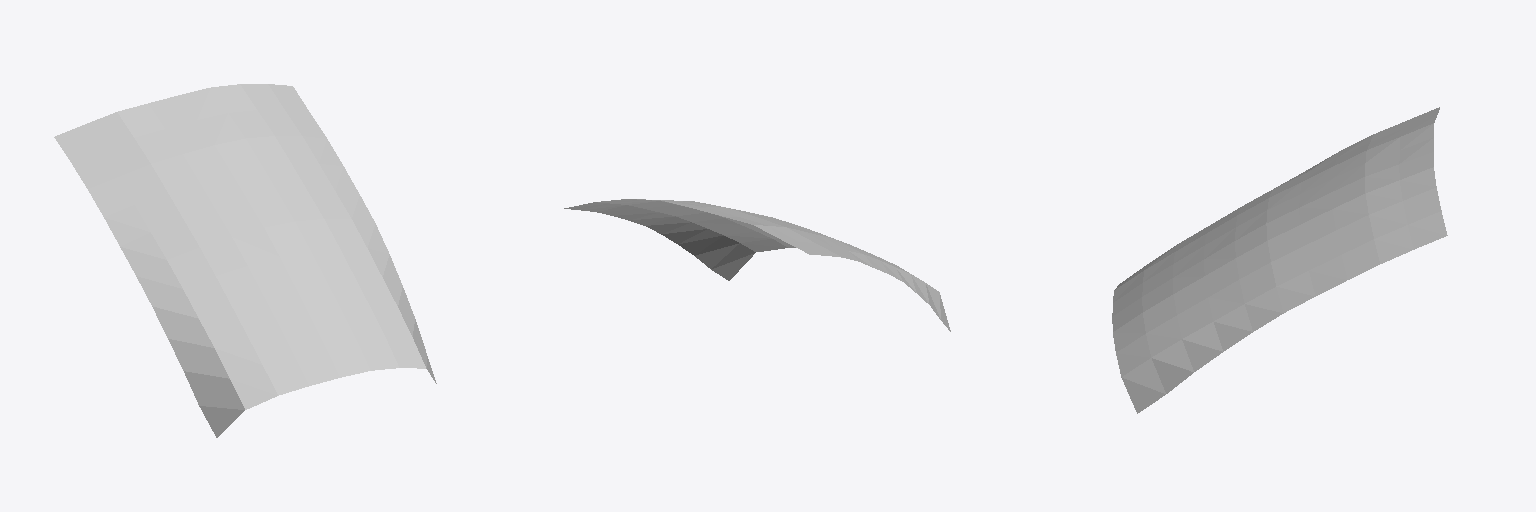
Rendered from status_right.obj.
3 renders of one model, left to right at view 1: azimuth 30°, elevation 25°; view 2: azimuth 150°, elevation 25°; view 3: azimuth 270°, elevation 25°, orthographic.
Parts seen in each view (by area): view 1: status; view 2: status; view 3: status.
Boxes of the visible parts, box(x1,y1,x2,y2) form: status: box(54, 84, 436, 437); status: box(564, 199, 950, 331); status: box(1112, 107, 1447, 413).
Size of the model in its own units: 0.0219 by 0.018 by 0.0261.